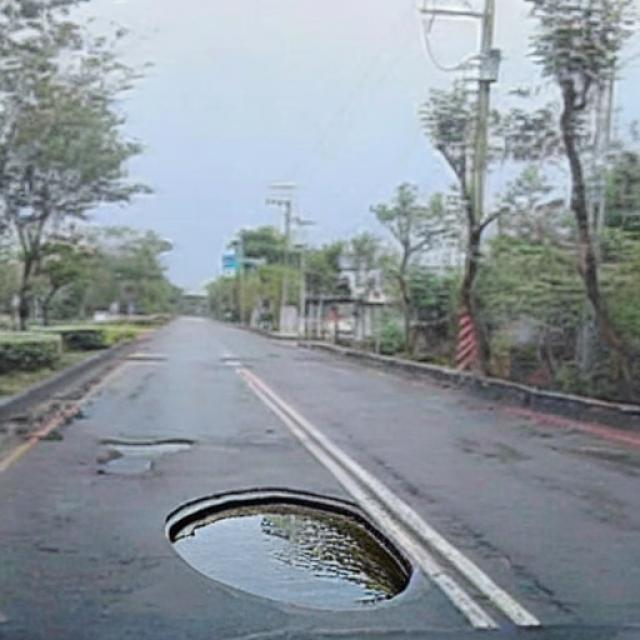puddle: (167, 491, 413, 608)
